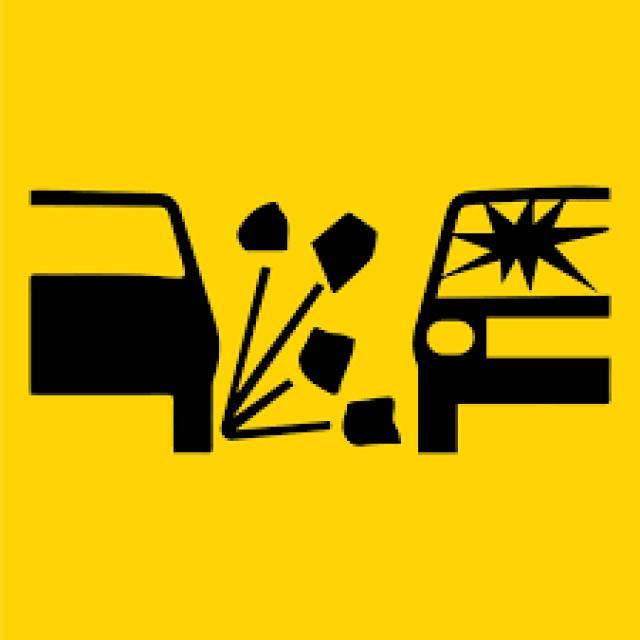loose gravel: (20, 162, 617, 490)
